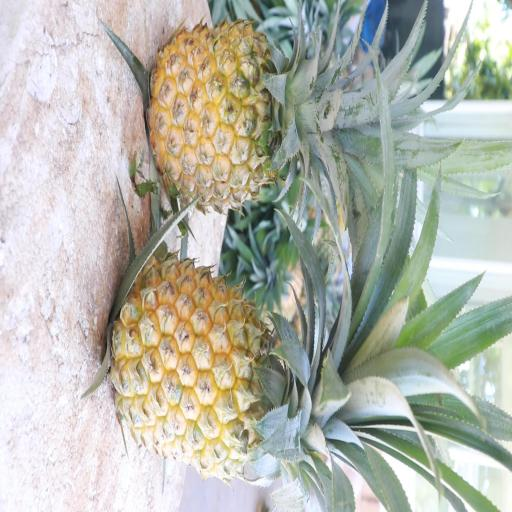Pineapple - v8 v1: (106, 254, 366, 485), (144, 16, 350, 214)
